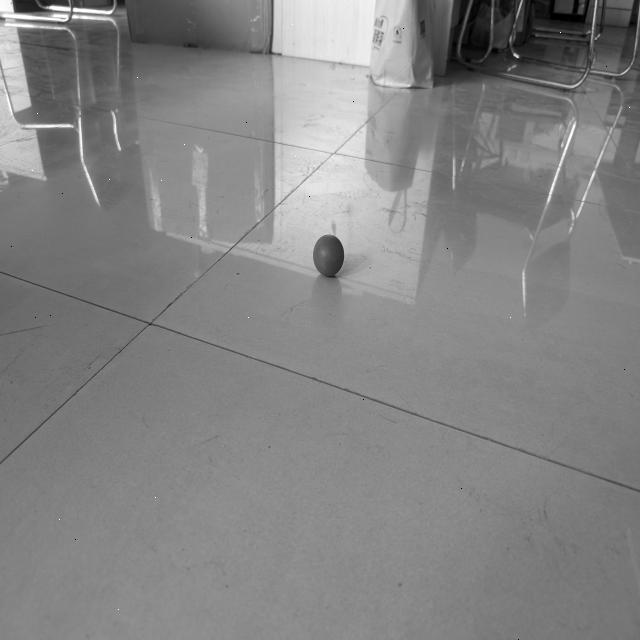ping-pong-ball: (314, 232, 344, 278)
